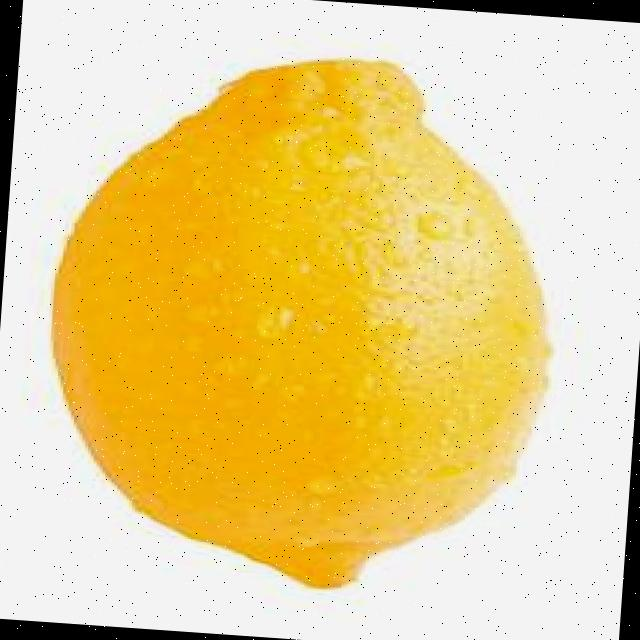Ripe: (34, 30, 592, 593)
